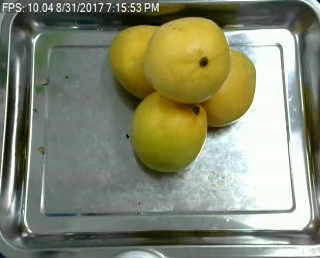Mango: (140, 16, 227, 102), (133, 92, 206, 173), (196, 49, 258, 126), (108, 24, 172, 95)
